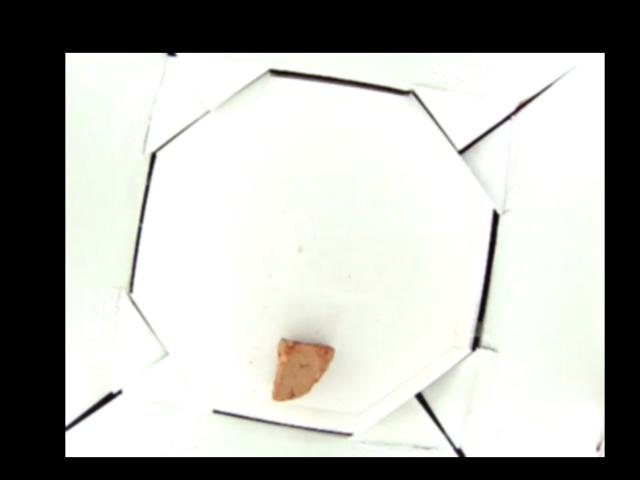Brisk: (272, 336, 335, 400)
